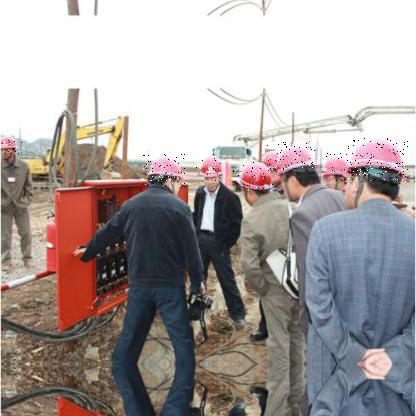safetyhelmet: (345, 138, 409, 183), (266, 142, 318, 172), (143, 154, 186, 187), (233, 159, 275, 192), (318, 153, 348, 184), (195, 154, 223, 182), (1, 135, 25, 155)
